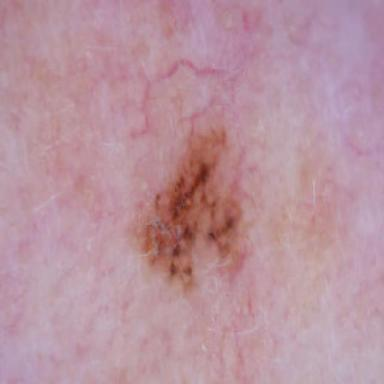Melanoma: (133, 117, 246, 288)
